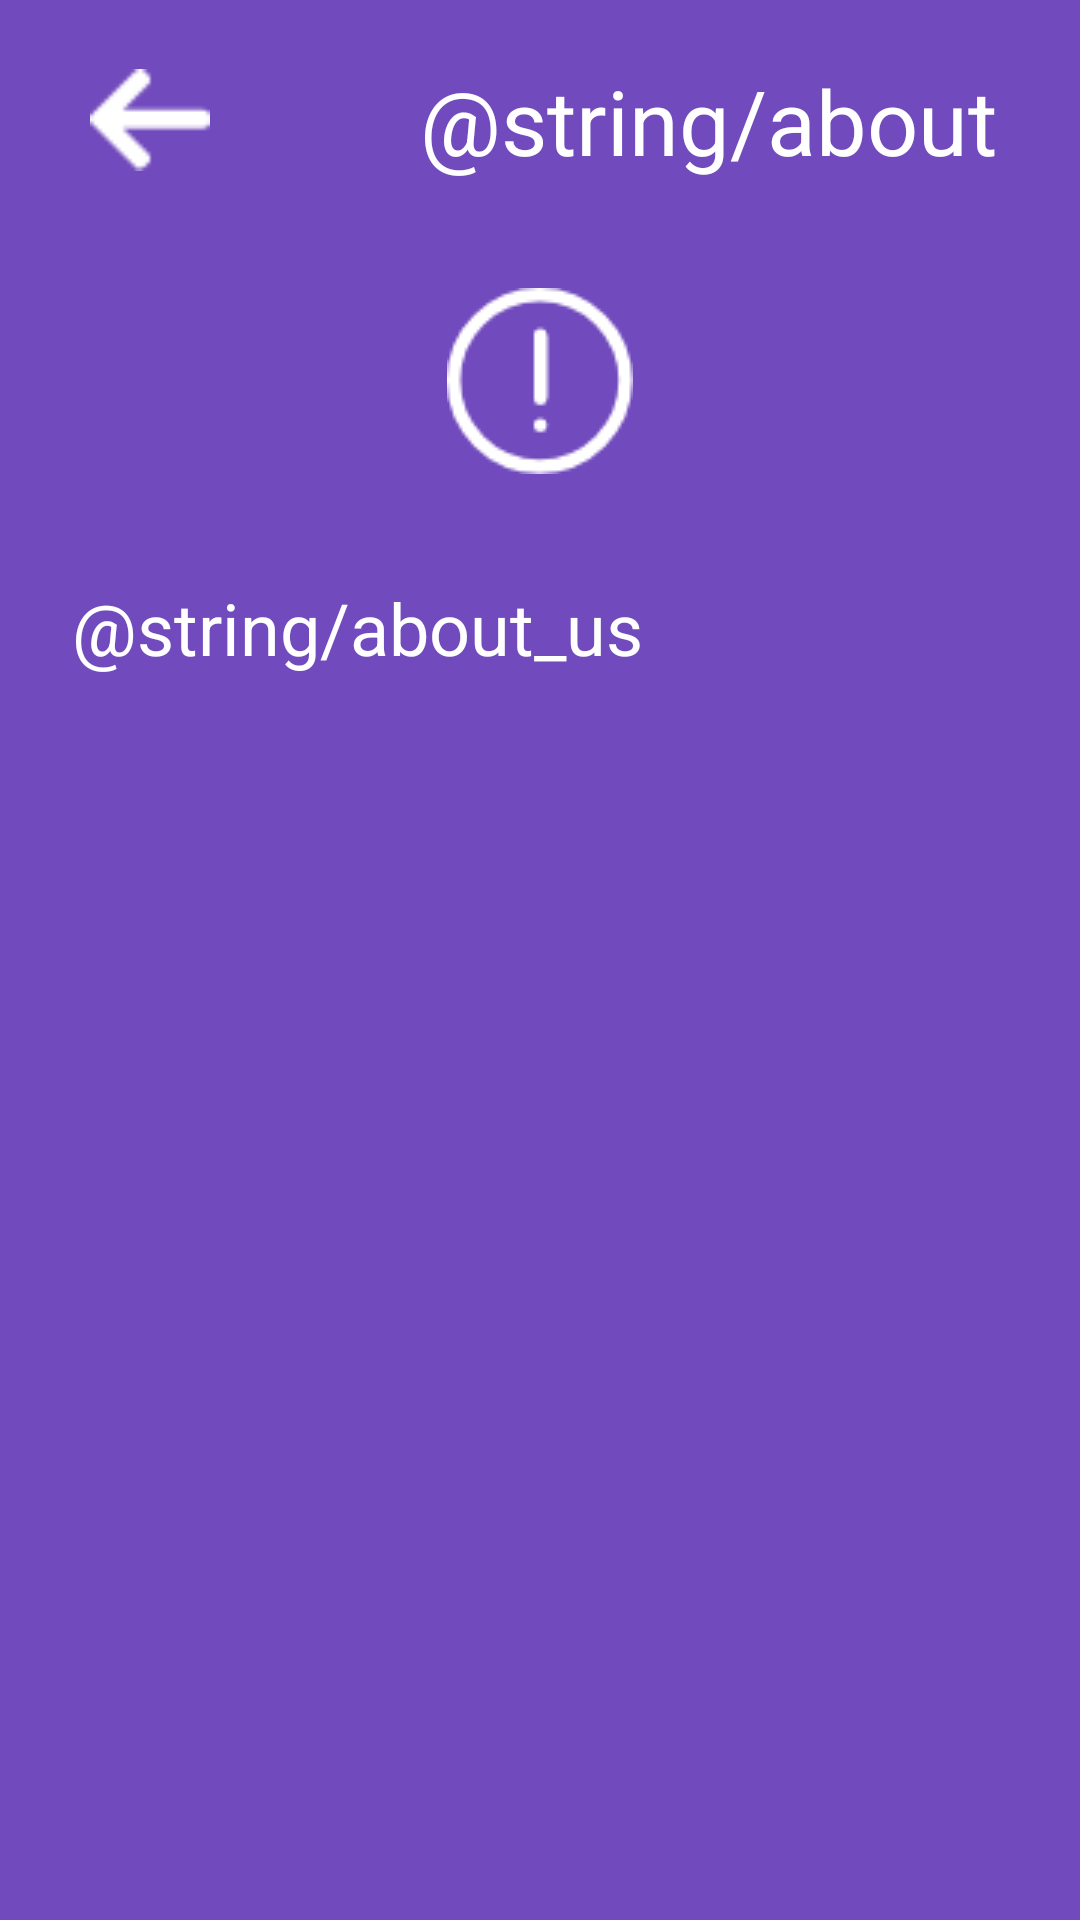

Screen size 1080px x 1920px. Icon name, then its center in pixels as (x,y):
back: (150,120)
setting info: (540,381)
